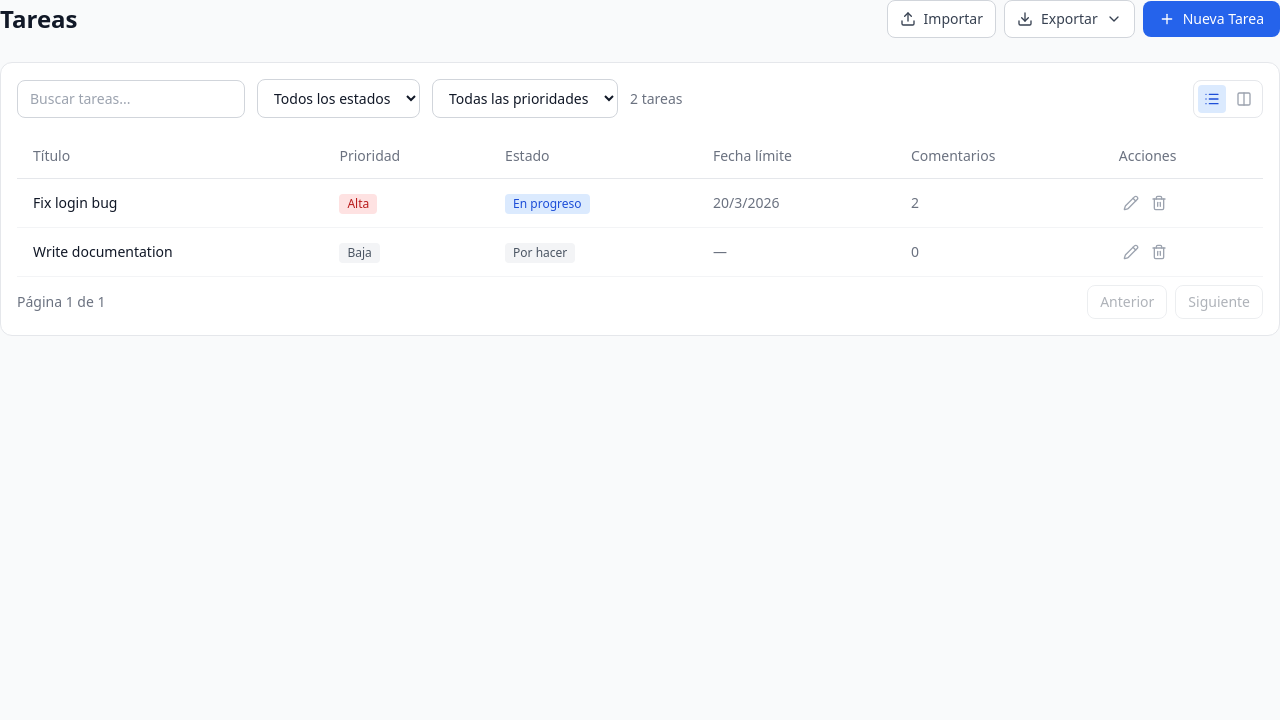
Scenario: TasksPage › cierra modal al hacer click en Cerrar modal
This screenshot has width=1280, height=720.
Click the button "Nueva Tarea".
click(1211, 19)  # box [1143, 1, 1279, 37]
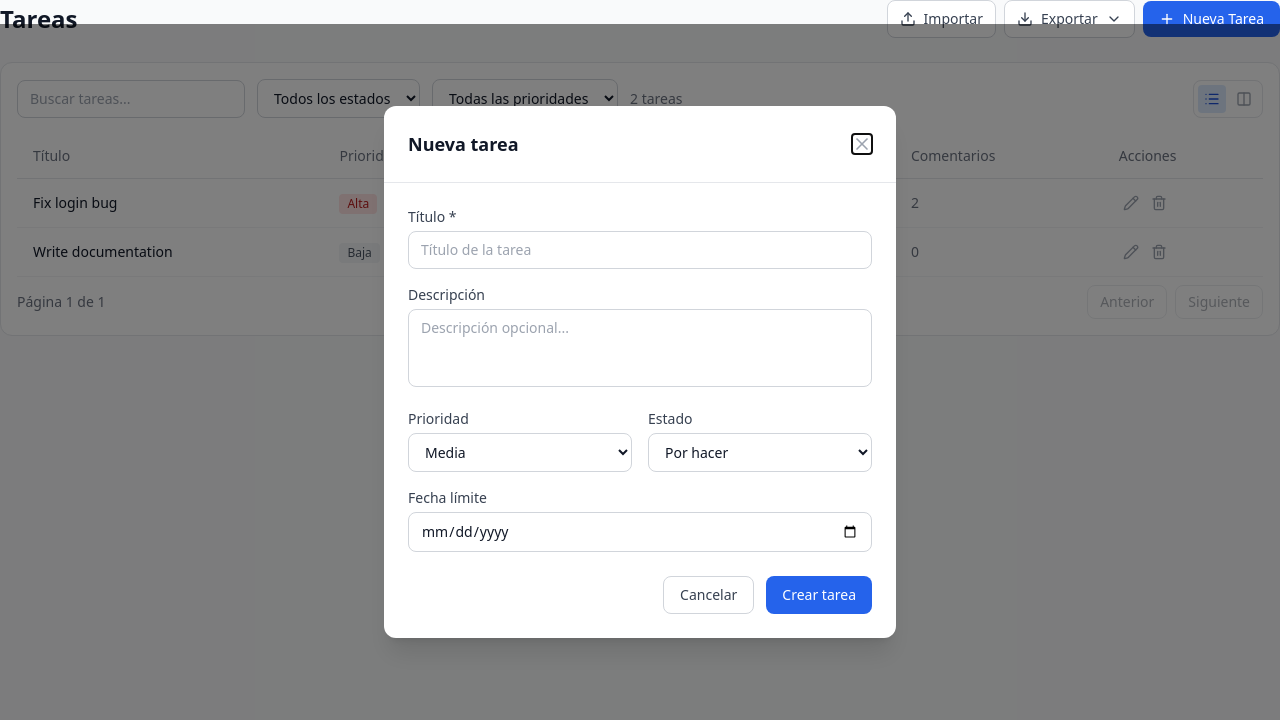
Click the button named "Cerrar modal".
click(862, 144)  # box [852, 134, 872, 154]
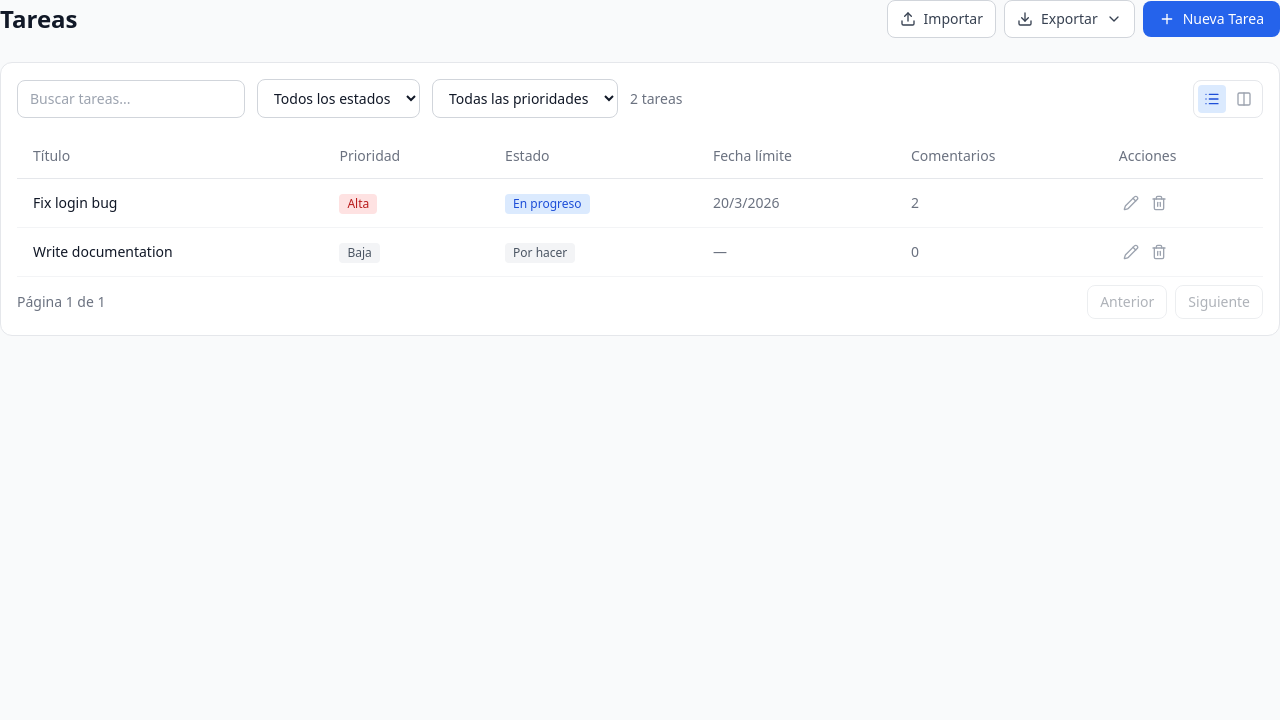
Now the dialog is gone
